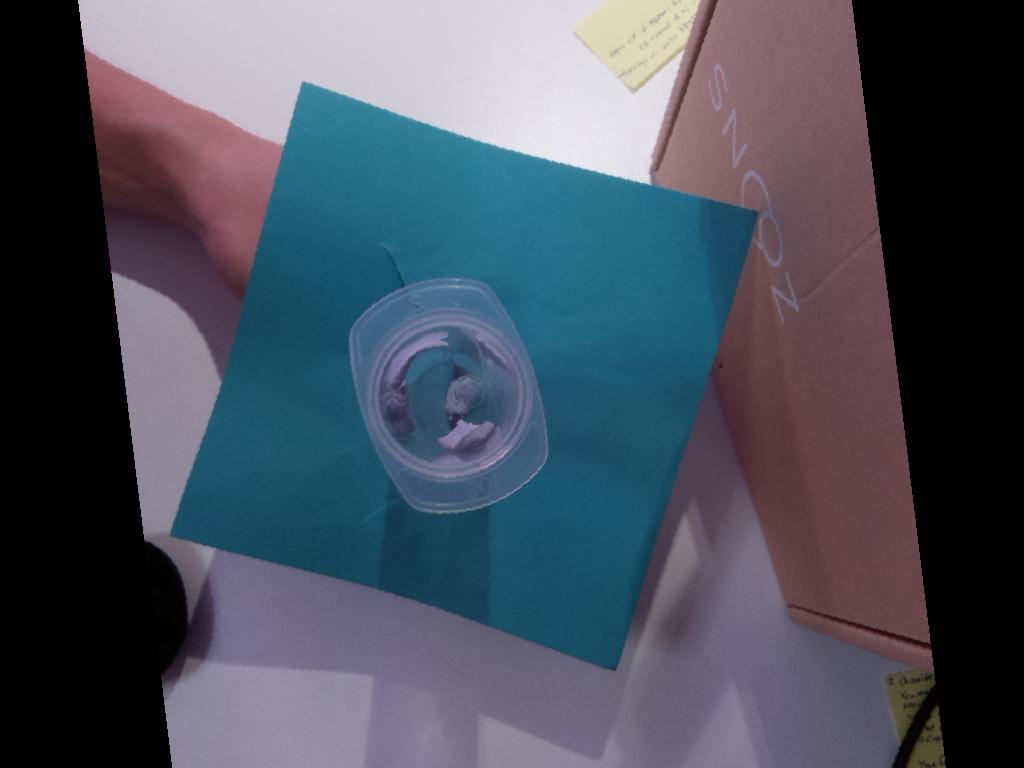dirty: (322, 269, 558, 530)
